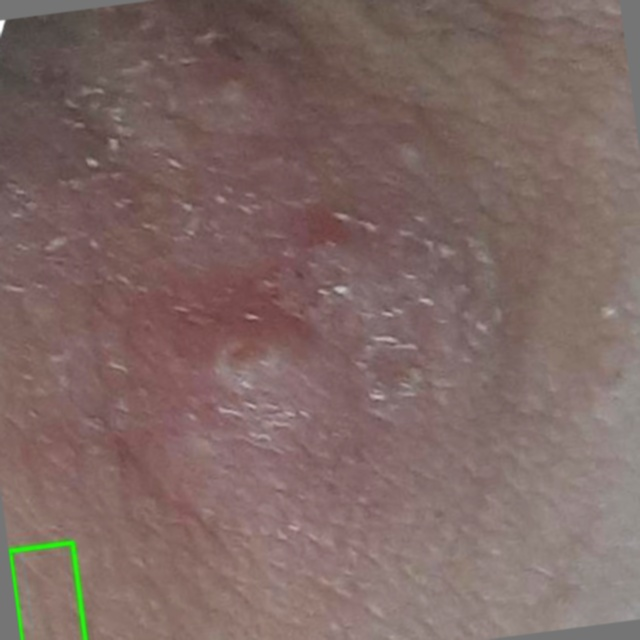Scabies: (9, 542, 85, 639)
